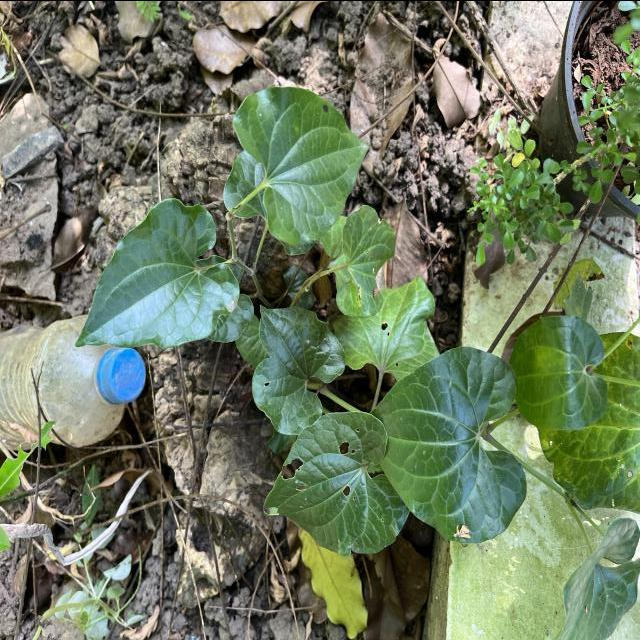Piper longum: (368, 343, 529, 544), (71, 195, 242, 352), (230, 82, 374, 249)
